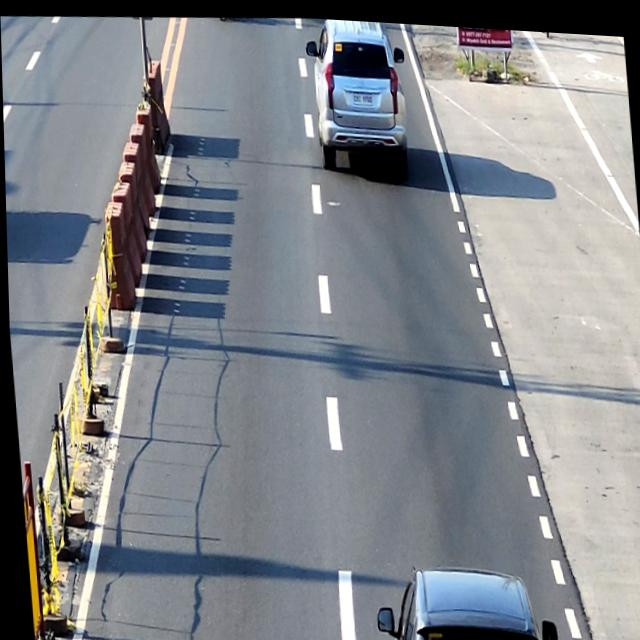Car: (303, 14, 413, 171), (369, 556, 556, 640)
License-Plate: (353, 88, 373, 103)
